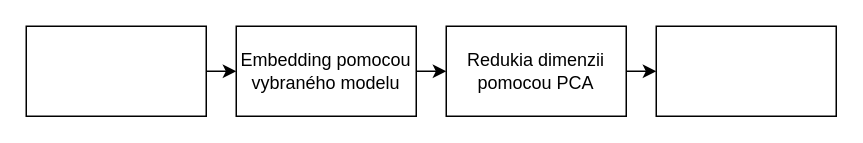
This 863x143 diagram has some shape labels left out. The shapes that lost their labels are listed below. From the top down, each one's centre as x and y in pixels, then its label:
At [115,70]: "Textový popis medicínskeho výkonu".
At [745,70]: "Výsledný embedding".
